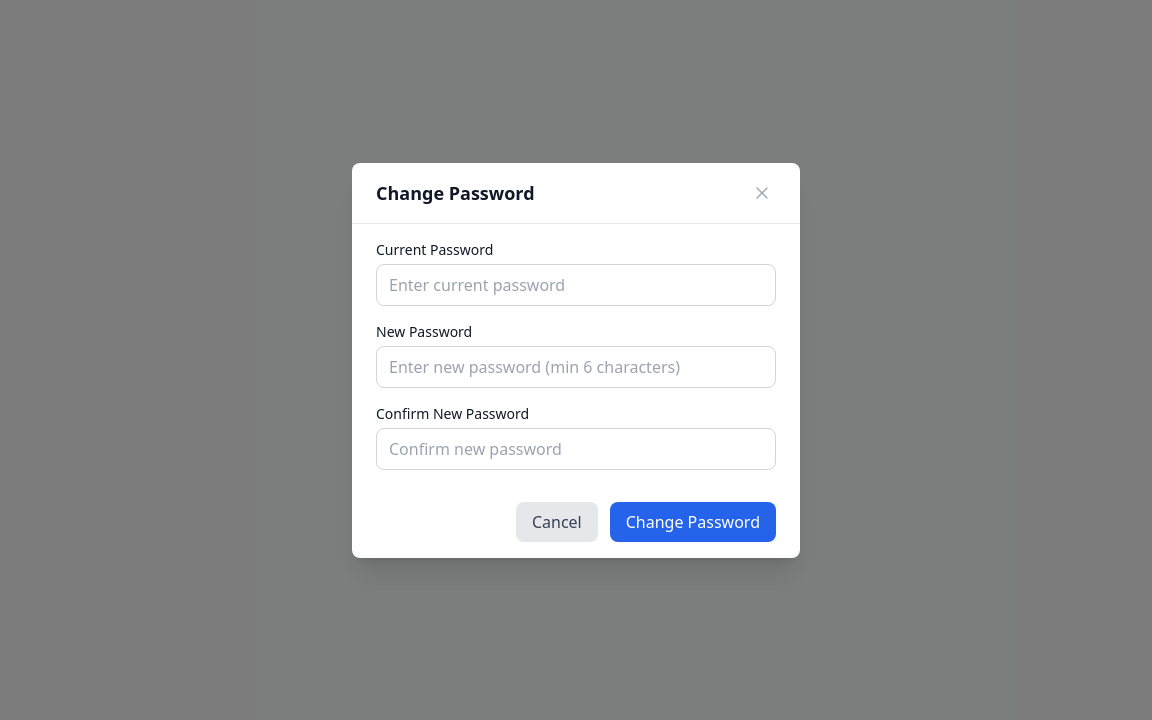
ChangePasswordModal › should display error when passwords do not match
The image size is (1152, 720).
Type "currentpass" into the password field with placeholder "Enter current password" at {"x": 576, "y": 284}, box [376,264,776,306]
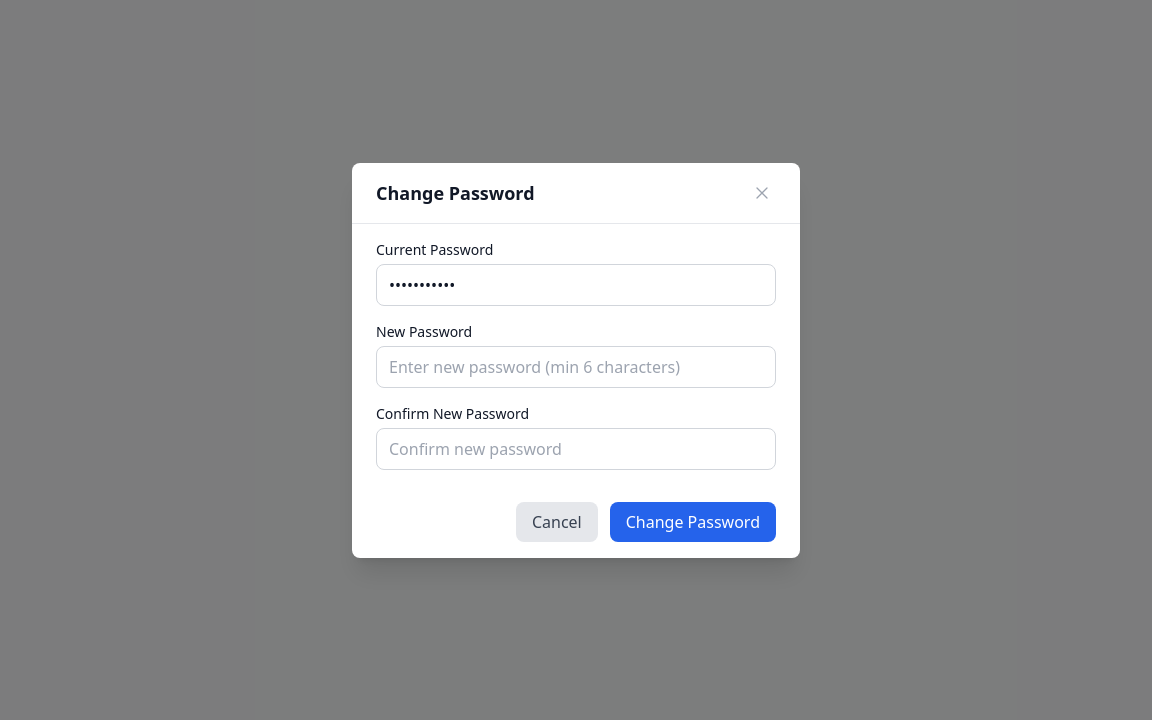
Type "newpass123" into the password field with placeholder "Enter new password (min 6 characters)" at {"x": 576, "y": 366}, box [376,346,776,388]
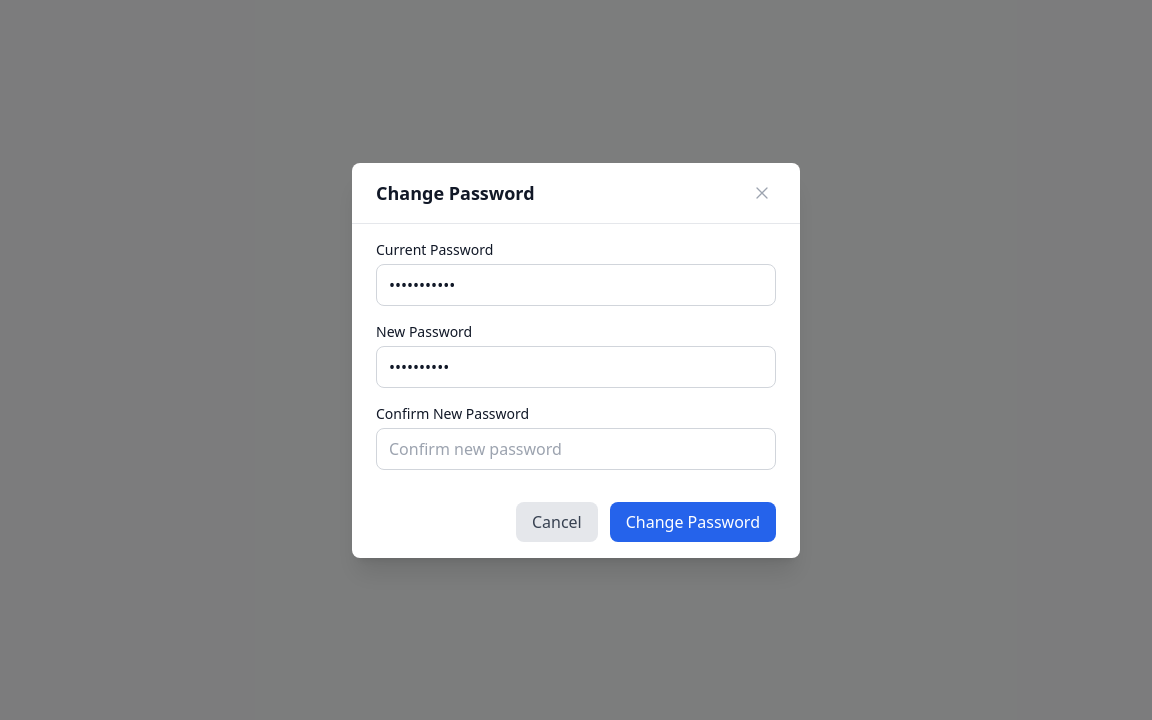
Type "differentpass" into the password field with placeholder "Confirm new password" at {"x": 576, "y": 448}, box [376,428,776,470]
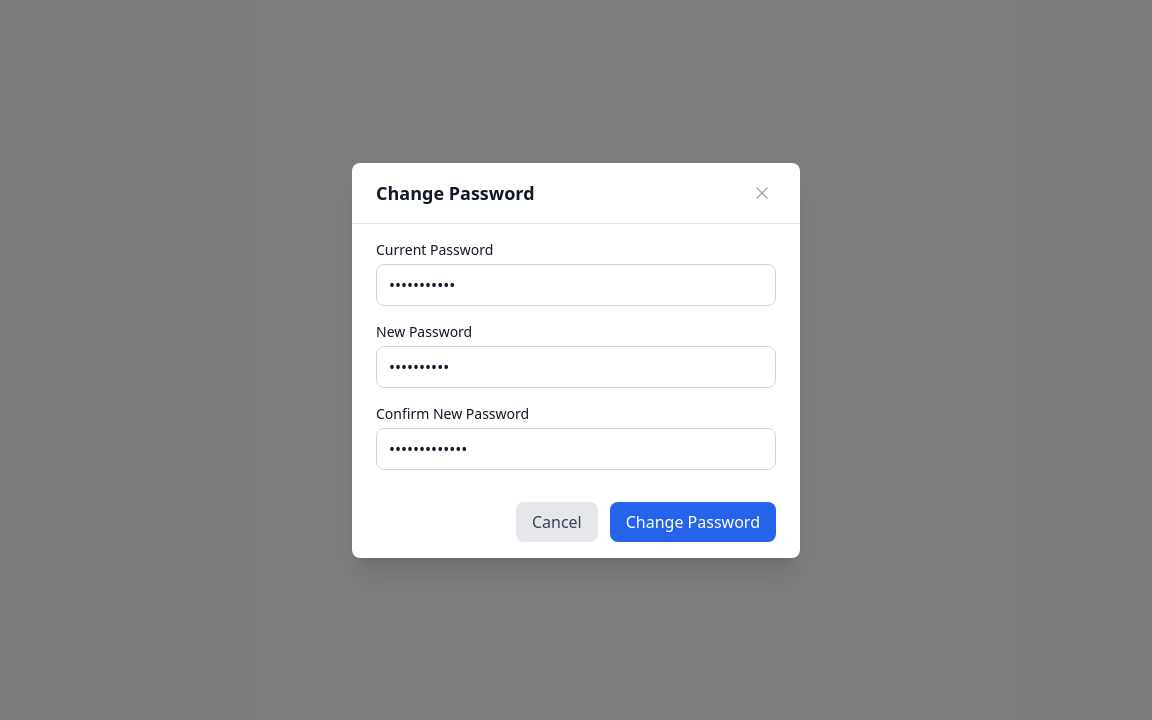
Submit the form, box [376,240,776,542]
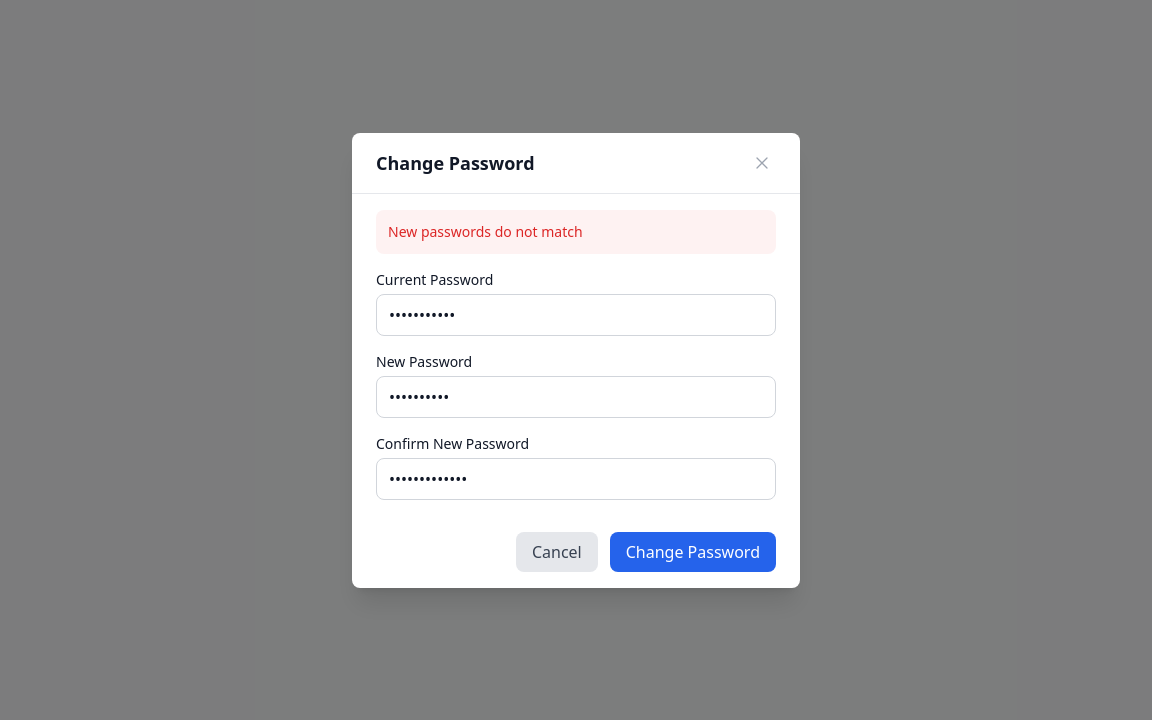
Expected: the text "New passwords do not match" is shown, [376,210,776,254]
